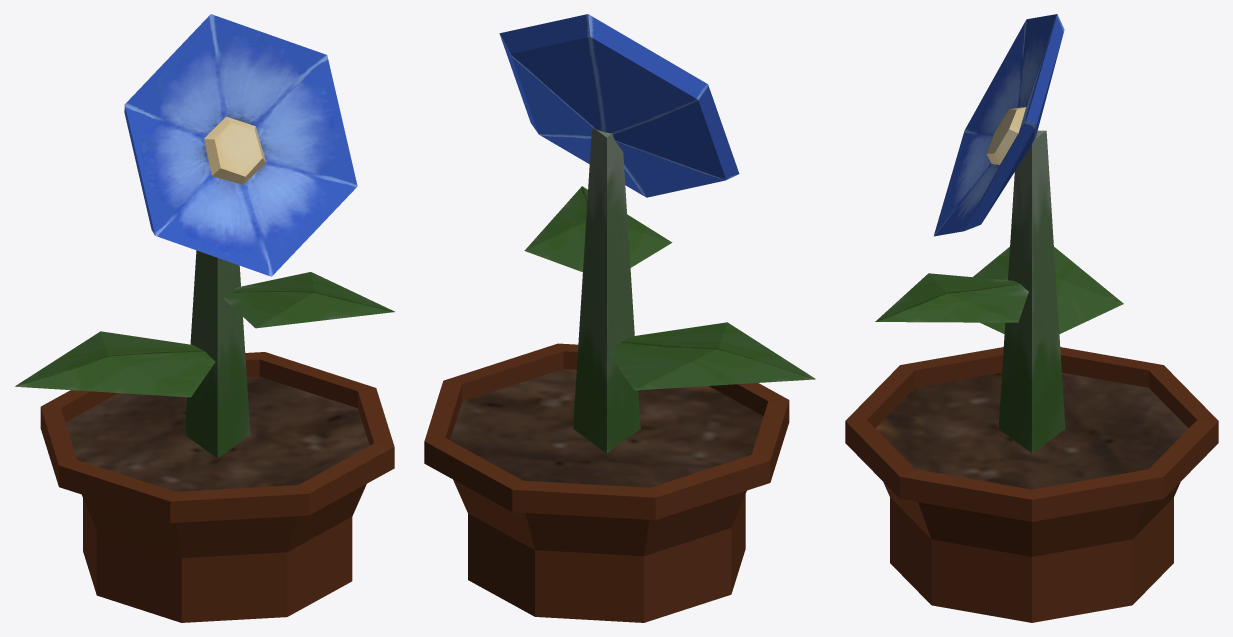
The model's file is plant.fbx.
The picture shows the model from 3 angles, left to right: view 1: azimuth 30°, elevation 25°; view 2: azimuth 150°, elevation 25°; view 3: azimuth 270°, elevation 25°; orthographic projection. The views are drawn at different scales.
Visible parts, largest first — view 1: Plant; view 2: Plant; view 3: Plant.
Boxes of the visible parts, x1,y1,x2,y2 form: Plant: (15,14,394,622); Plant: (424,14,815,622); Plant: (845,14,1218,622).
Bounding box in the file's own units: 56.27 × 80.42 × 49.32.
